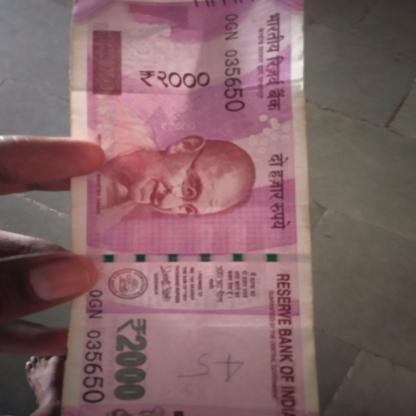New2000Front: (66, 1, 314, 416)
